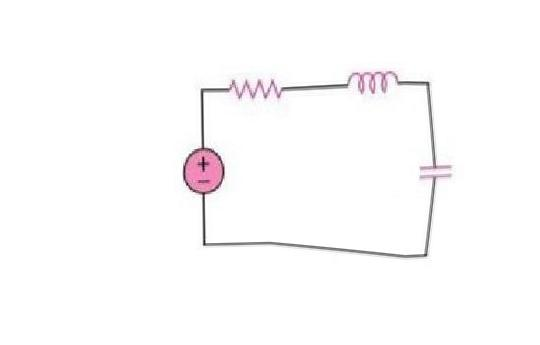Battery: (170, 137, 233, 217)
